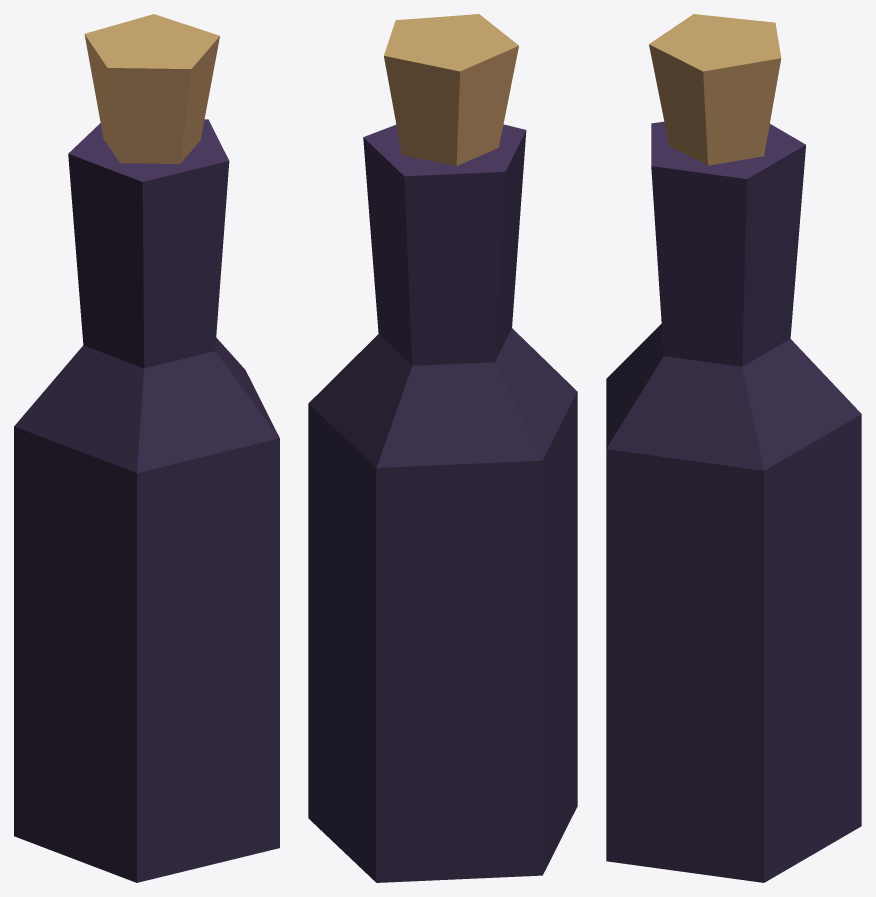
The model's file is TB_Prop_Bottle_C.FBX.
3 renders of one model, left to right at view 1: azimuth 30°, elevation 25°; view 2: azimuth 150°, elevation 25°; view 3: azimuth 270°, elevation 25°, orthographic.
Visible parts, largest first — view 1: TB_Prop_Bottle_C; view 2: TB_Prop_Bottle_C; view 3: TB_Prop_Bottle_C.
Part boxes in pixels (box(x1,y1,x2,y2)): TB_Prop_Bottle_C: box(14, 14, 279, 882); TB_Prop_Bottle_C: box(308, 14, 577, 882); TB_Prop_Bottle_C: box(606, 14, 861, 882).
Size of the model in its own units: 0.2856 by 0.9197 by 0.2716.
